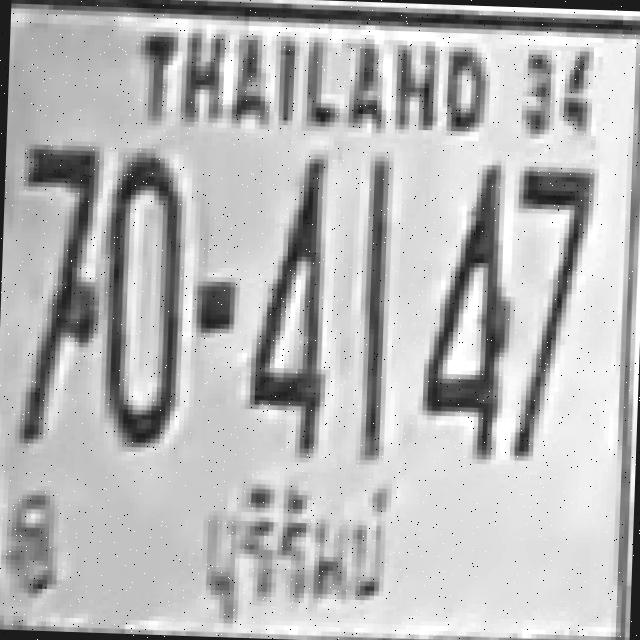0: (102, 147, 184, 327)
4: (425, 158, 510, 334)
7: (508, 161, 594, 341)
Buriram: (180, 474, 402, 622)
